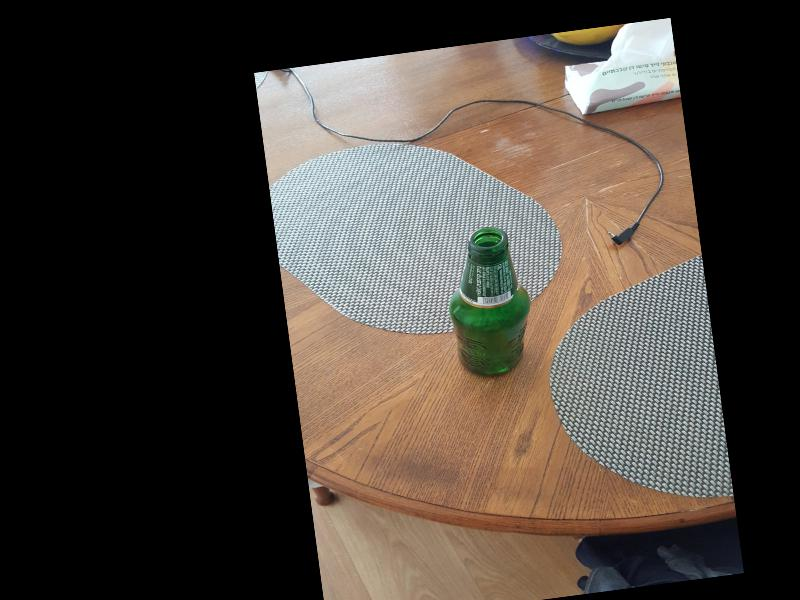Beer: (439, 222, 536, 381)
